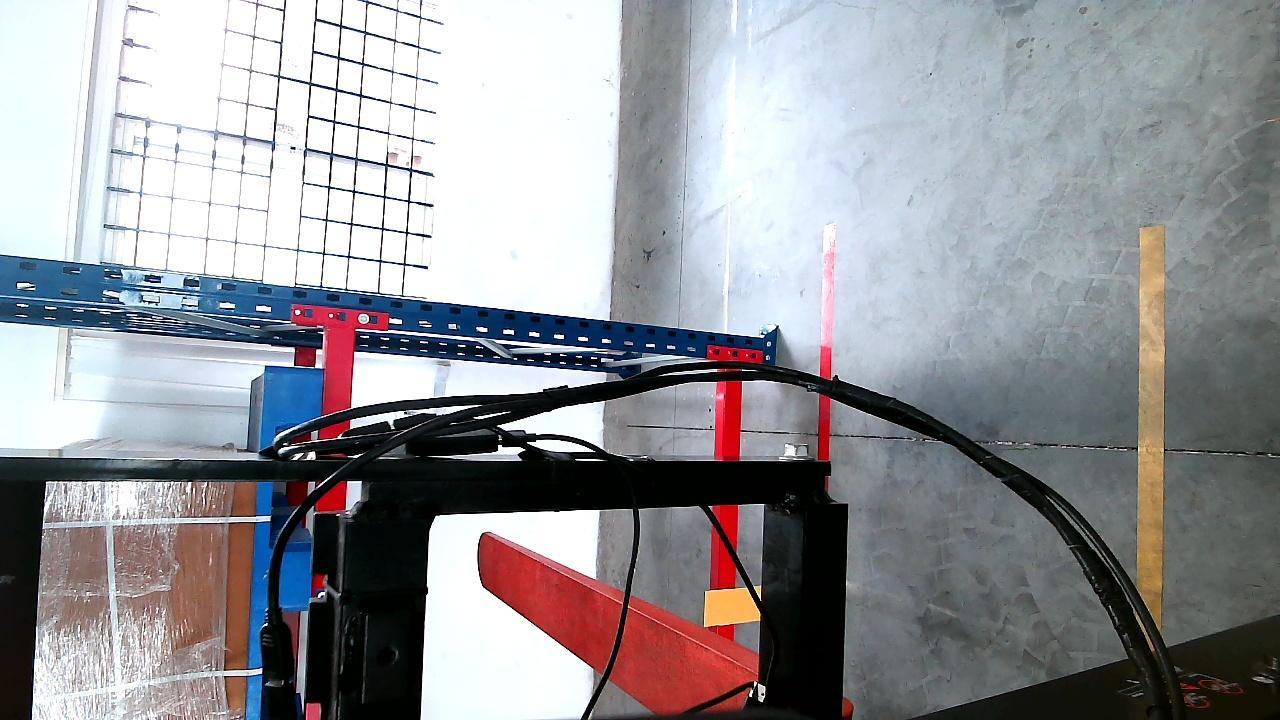red_line: (815, 235, 838, 473)
yellow_line: (1137, 213, 1167, 631)
